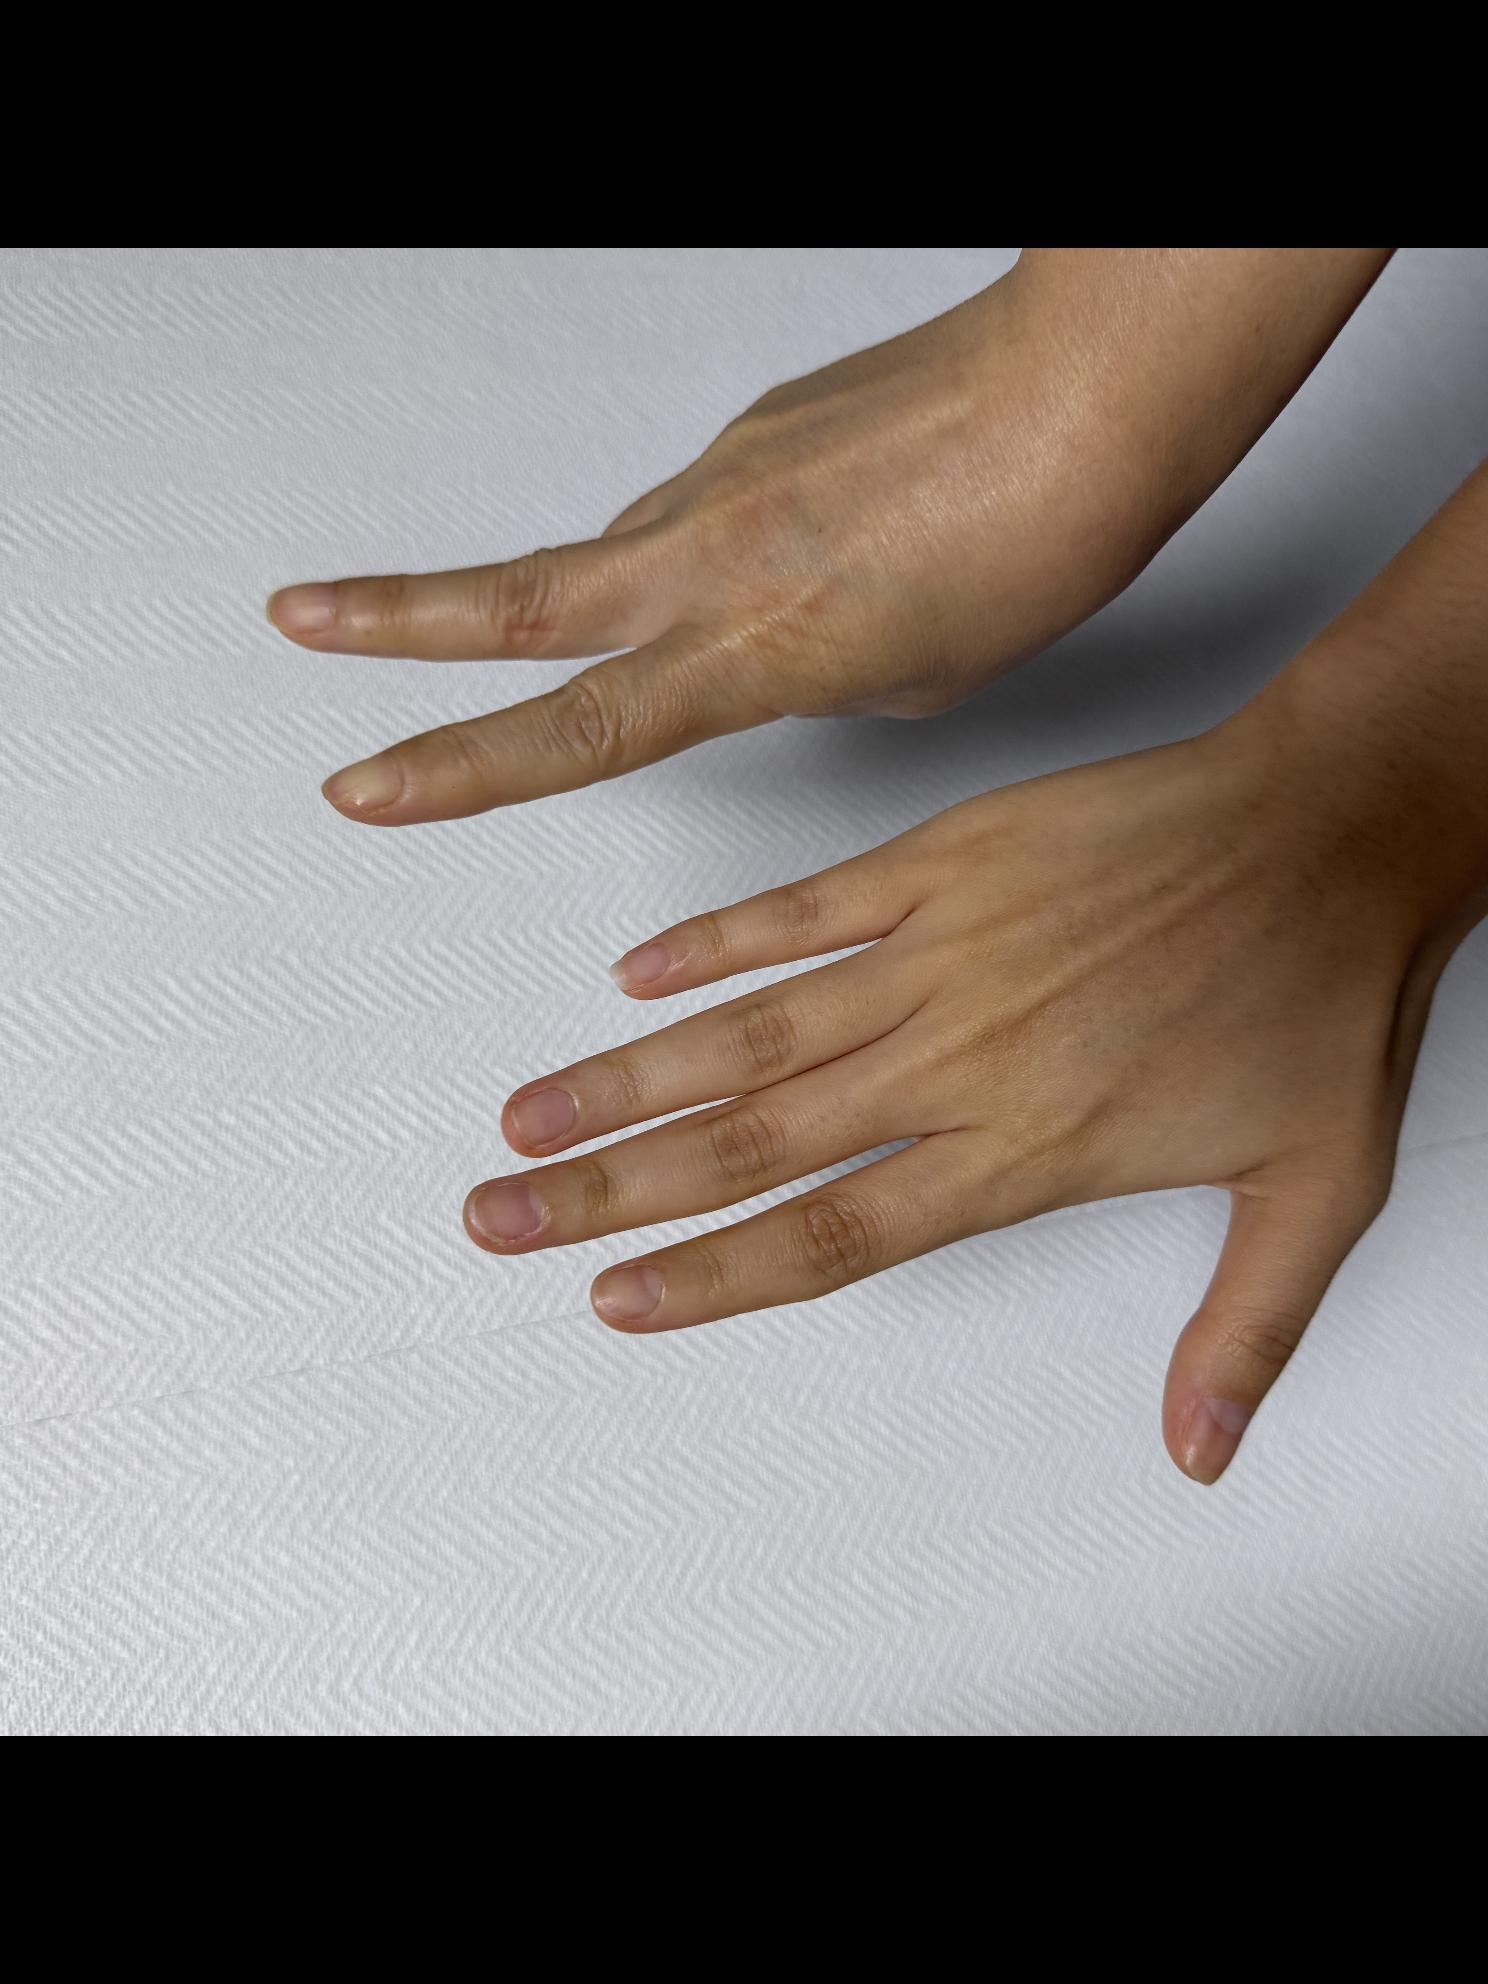v: (244, 250, 1274, 830)
